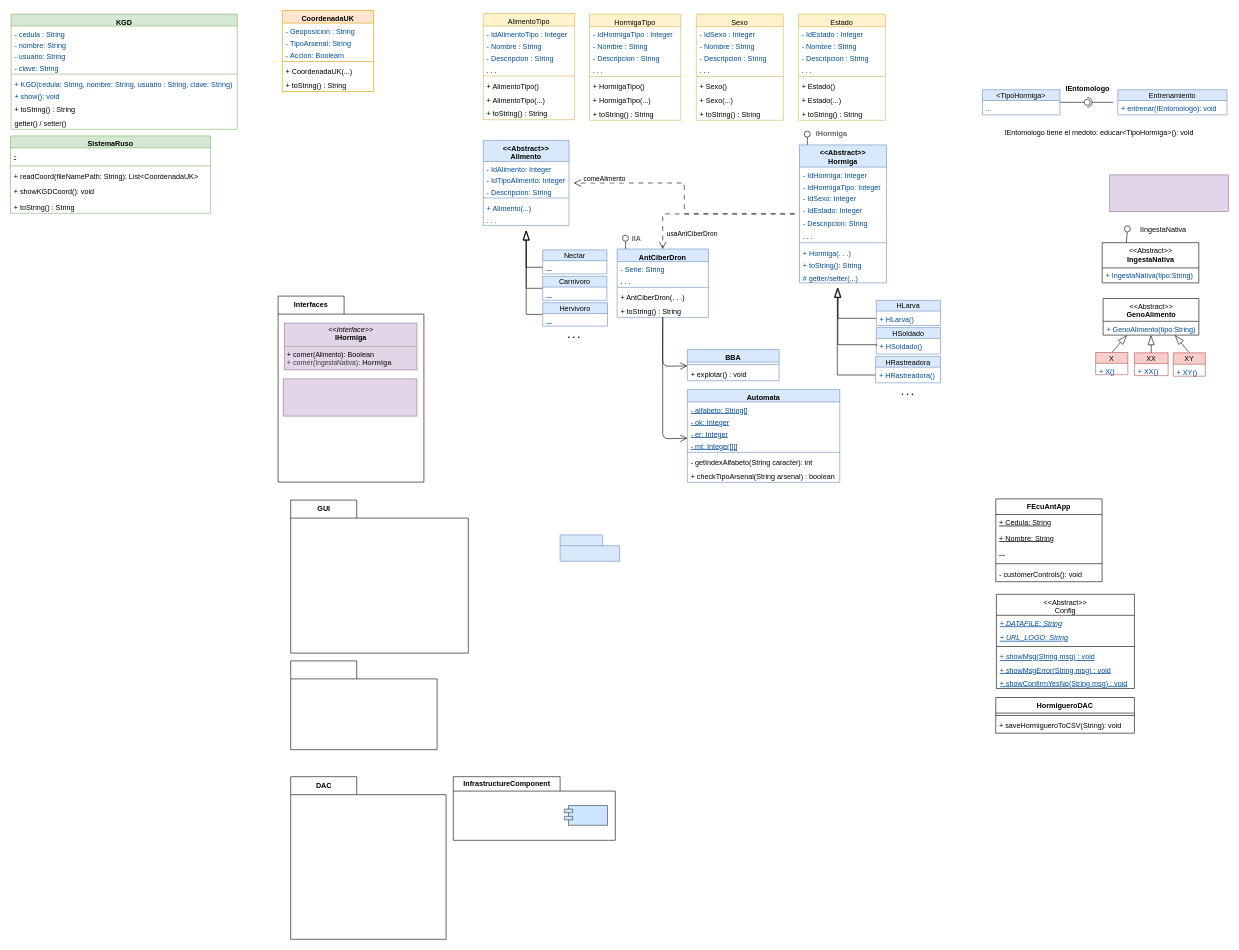
Image size: 1239x950. Some labels were removed from this diagram. The shapes that lost their labels are listed below. From the top down, each one's centre as x and y in pixels, then its label:
At pixel 1168 193: "<<Interface>> IIngestaNativa + inyectar( GenoAlimento ): boolean".
At pixel 350 397: "<<Interface>> IIA + buscar (tipoArsenal : String) : Boolean".
At pixel 590 547: "Resource".
At pixel 363 705: "BL".
At pixel 586 815: "Tools".
